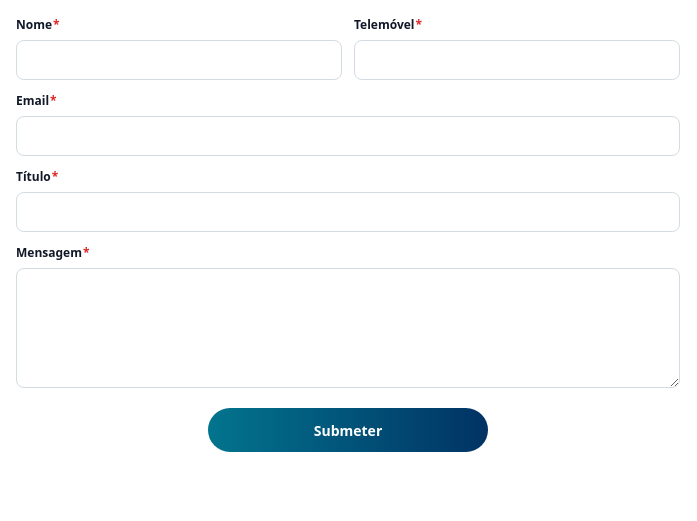
ContactForm › envia o formulário para a API de contacto
In the field labelled "Nome*": (179, 60) [16,40,342,80], type "Ana Silva"
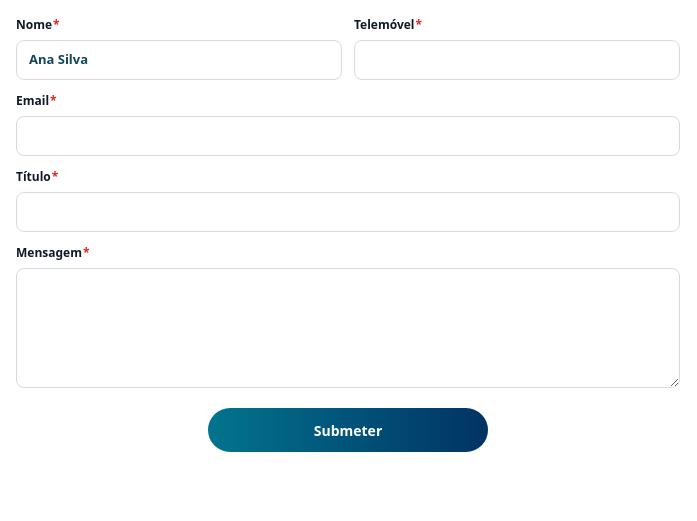
In the field labelled "Telemóvel*": (517, 60) [354,40,680,80], type "912345678"
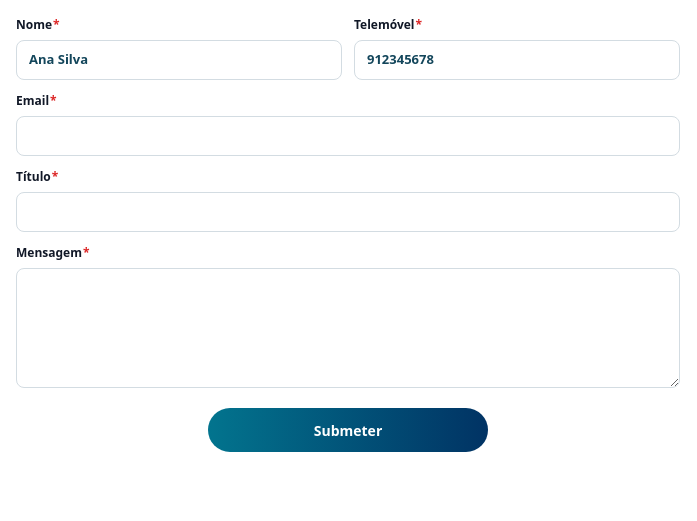
In the field labelled "Email*": (348, 136) [16,116,680,156], type "ana@example.com"
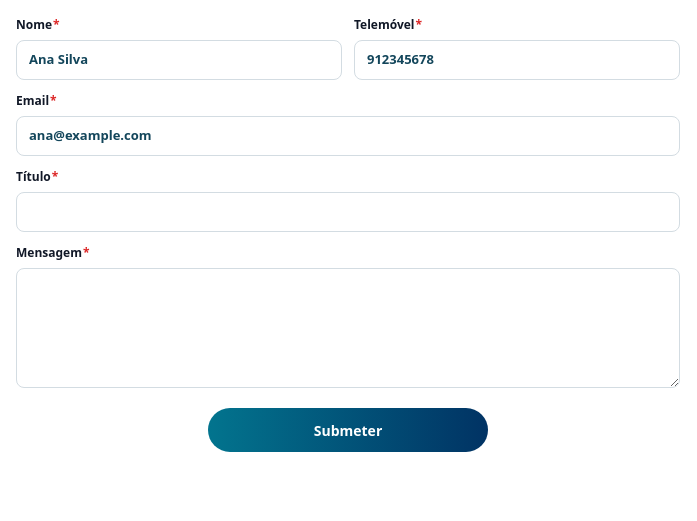
In the field labelled "Título*": (348, 212) [16,192,680,232], type "Dúvida sobre recolha"
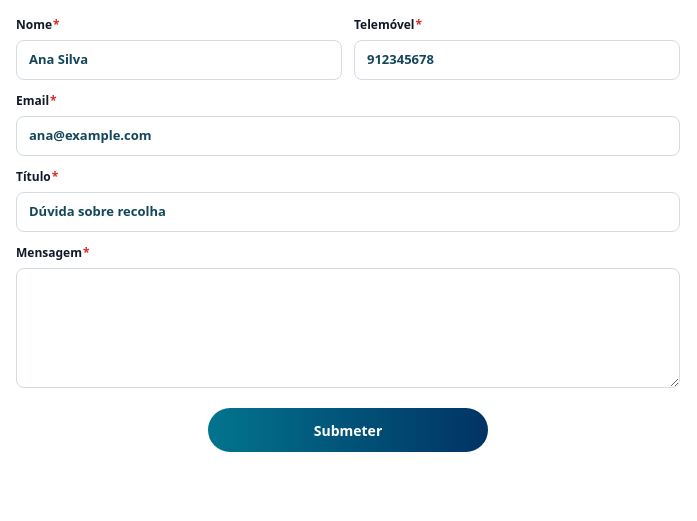
In the text box labelled "Mensagem*": (348, 328) [16,268,680,388], type "Tenho sacos para recolher."
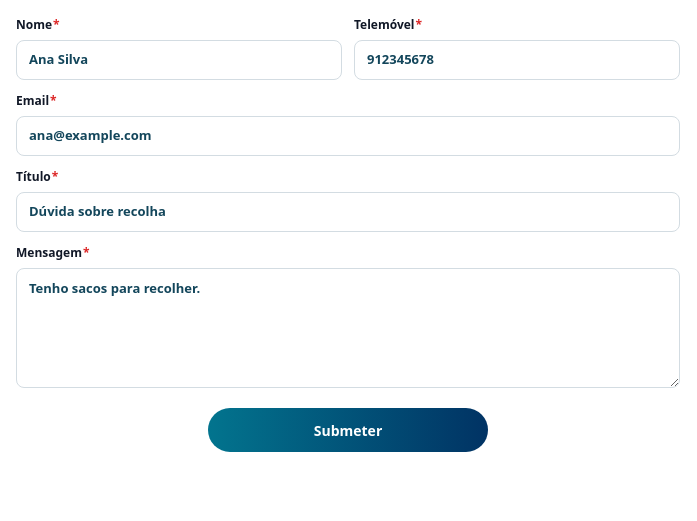
Click the button "Submeter": click(348, 430) [208,408,488,452]
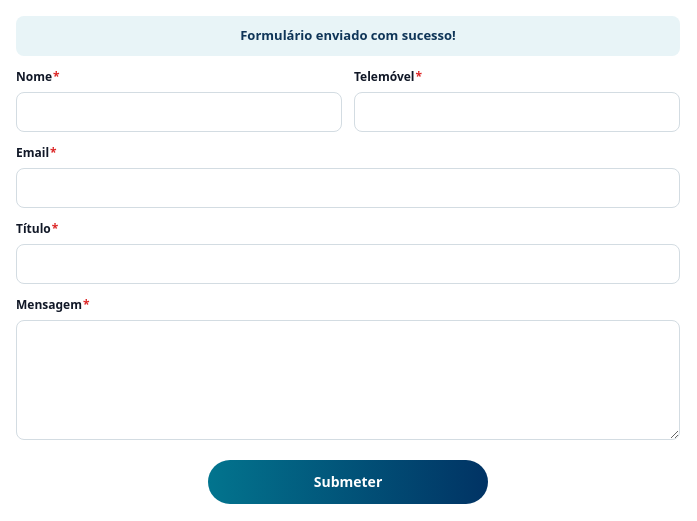
expect the text "Formulário enviado com sucesso!" is shown: met, box [16,16,680,56]
